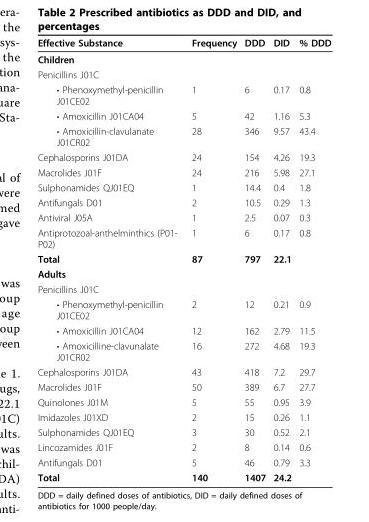table: (36, 36, 330, 482)
table column: (36, 36, 183, 482), (183, 36, 240, 482), (294, 36, 330, 482), (240, 36, 268, 482), (268, 36, 294, 482)
table column header: (36, 36, 330, 50)
table projected row header: (36, 50, 330, 66), (36, 66, 330, 81), (36, 266, 330, 281), (36, 281, 330, 296)
table row: (36, 81, 330, 108), (36, 224, 330, 251), (36, 337, 330, 364), (36, 123, 330, 149), (36, 296, 330, 322), (36, 50, 330, 66), (36, 66, 330, 81), (36, 108, 330, 123), (36, 149, 330, 164), (36, 164, 330, 179), (36, 179, 330, 194), (36, 194, 330, 209), (36, 209, 330, 224), (36, 251, 330, 266), (36, 266, 330, 281), (36, 281, 330, 296), (36, 322, 330, 337), (36, 364, 330, 379), (36, 379, 330, 394), (36, 394, 330, 409), (36, 409, 330, 424), (36, 424, 330, 439), (36, 439, 330, 454), (36, 454, 330, 469), (36, 36, 330, 50), (36, 469, 330, 482)
